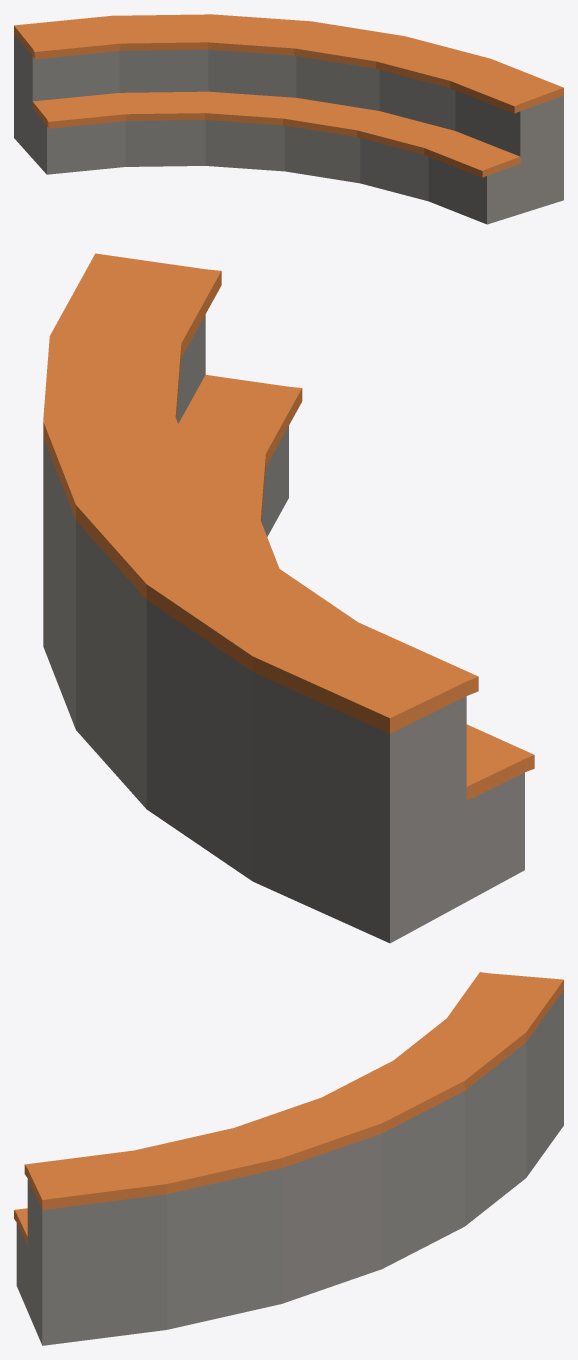
File: obj_roundthing_.fbx
3 renders of one model, top to bottom at view 1: azimuth 30°, elevation 25°; view 2: azimuth 150°, elevation 25°; view 3: azimuth 270°, elevation 25°, orthographic. The views are drawn at different scales.
Visible parts, largest first — view 1: Circle; view 2: Circle; view 3: Circle.
Boxes of the visible parts, left/top/right/bottom form: Circle: left=14, top=14, right=563, bottom=224; Circle: left=43, top=253, right=534, bottom=943; Circle: left=14, top=972, right=563, bottom=1345.
Bounding box in the file's own units: 536 × 157 × 536.
